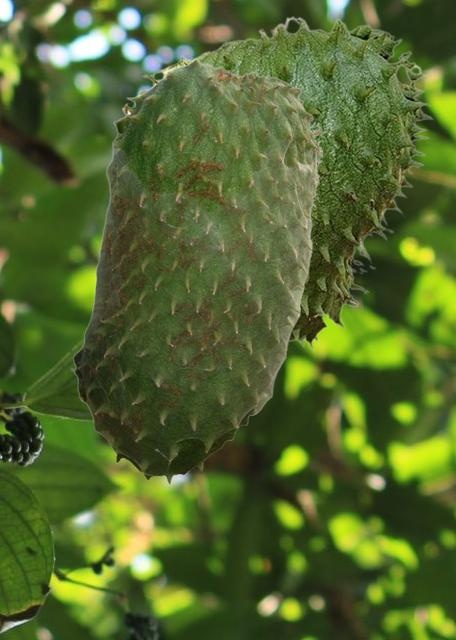guyabano: (70, 57, 325, 483), (137, 15, 433, 353)
